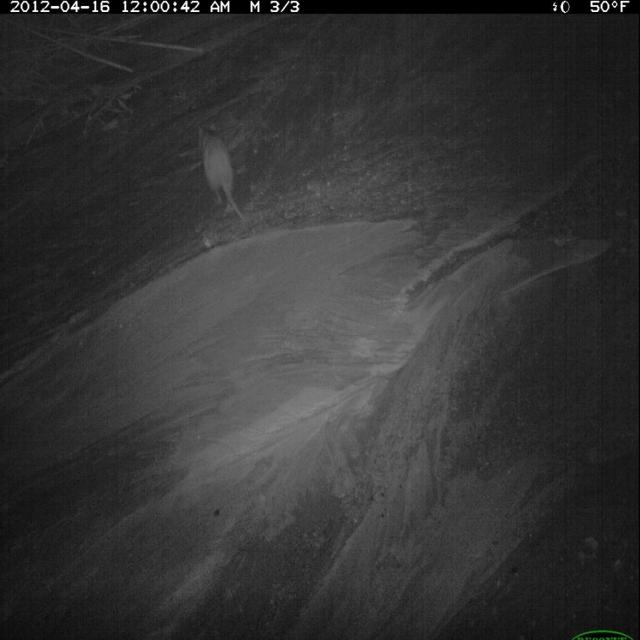opossum: (196, 121, 249, 228)
